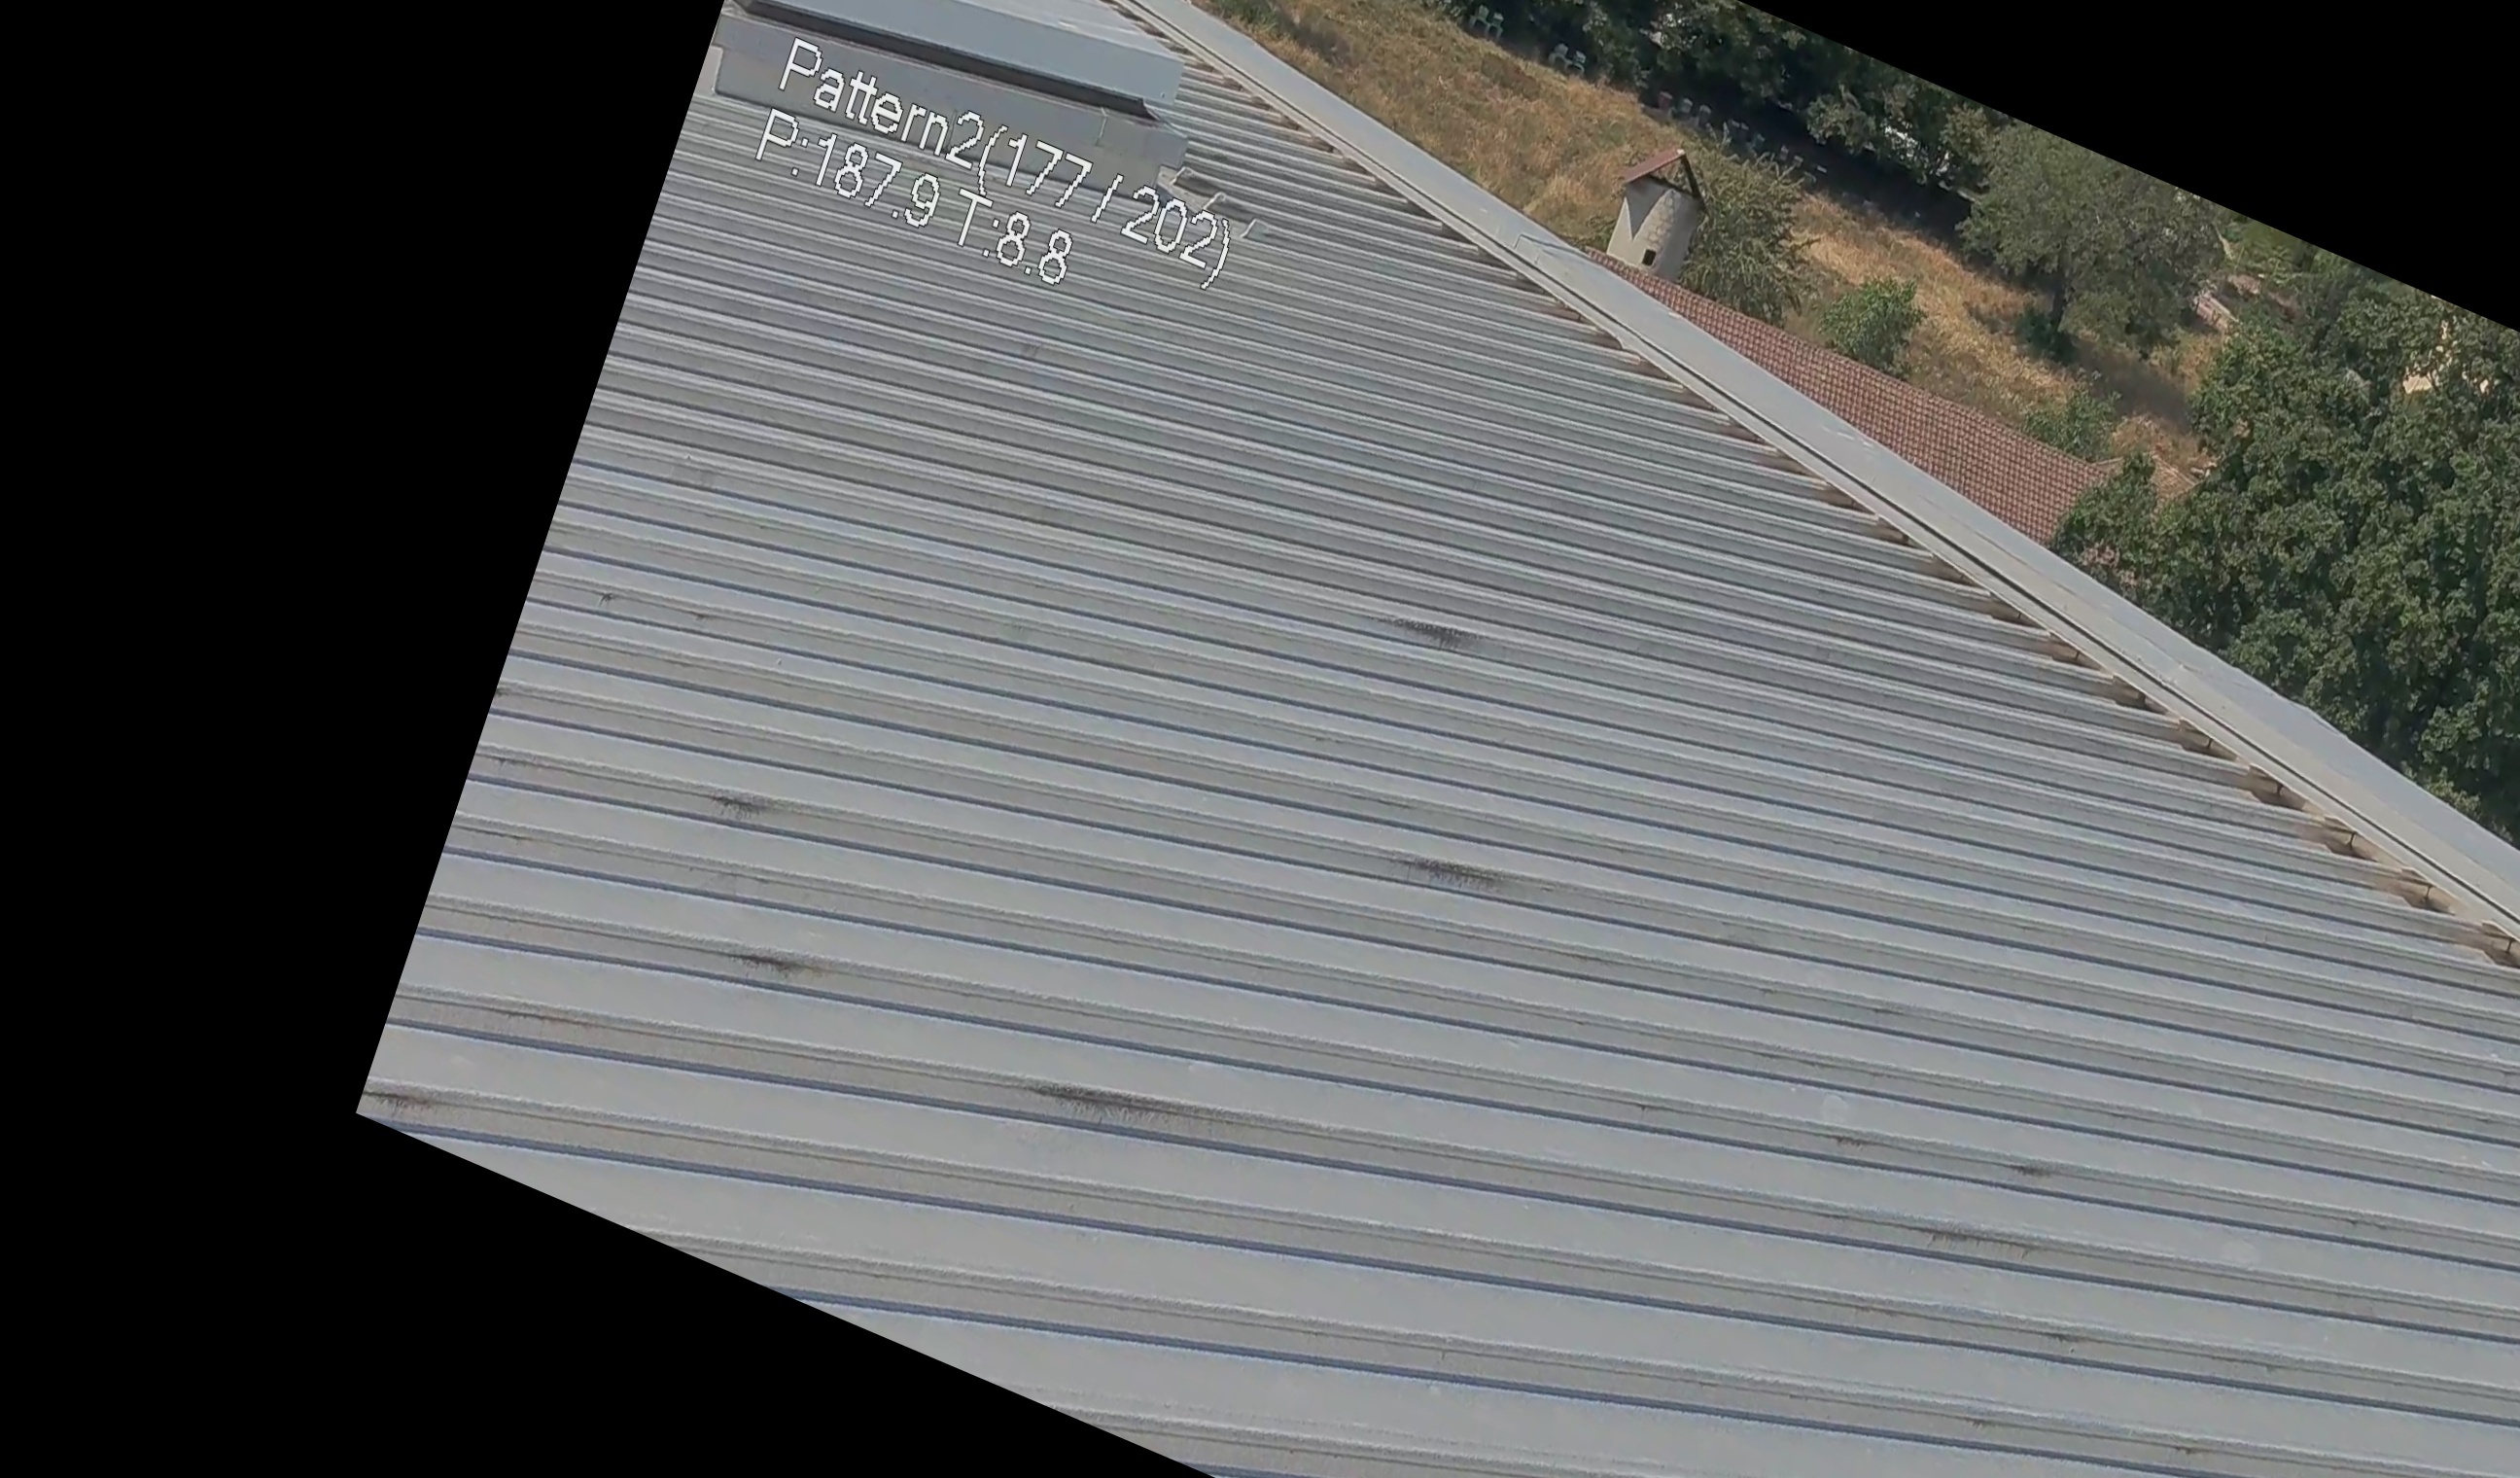Other: (1586, 104, 1752, 313)
